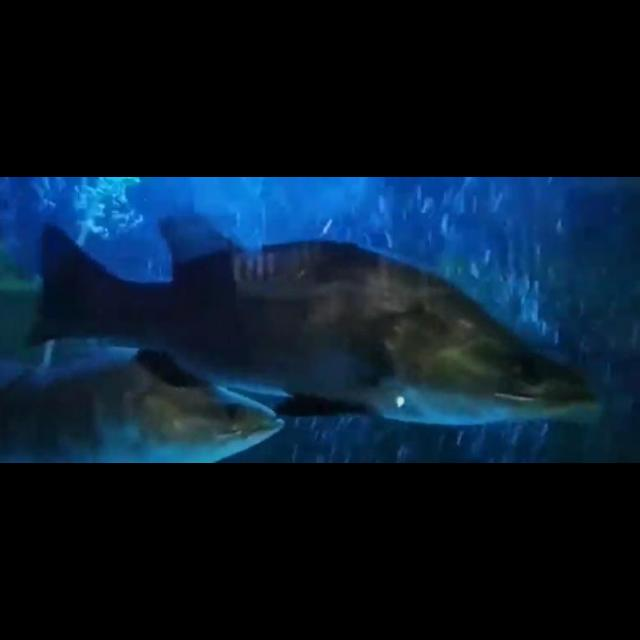Seabass: (32, 220, 600, 426)
